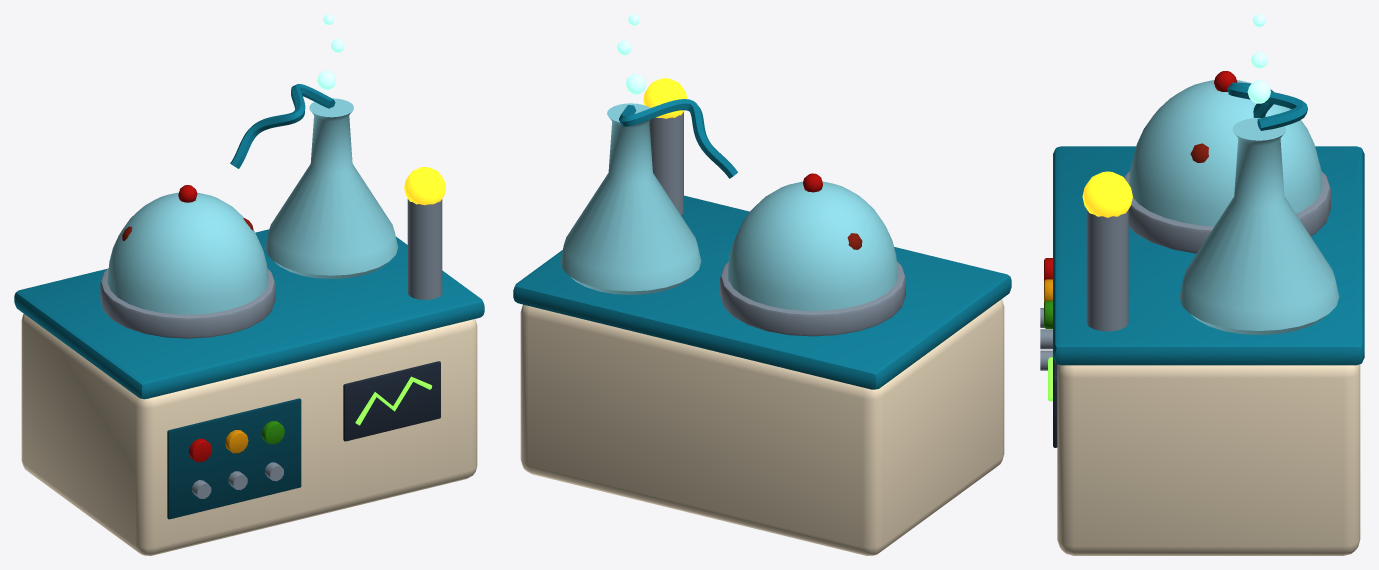
Rendered from LabMachine.fbx.
The picture shows the model from 3 angles, left to right: view 1: azimuth 30°, elevation 25°; view 2: azimuth 150°, elevation 25°; view 3: azimuth 270°, elevation 25°; orthographic projection. The views are drawn at different scales.
Parts seen in each view (by area): view 1: LabMachine; view 2: LabMachine; view 3: LabMachine.
Part boxes in pixels (left/top/right/bottom): LabMachine: left=14, top=14, right=484, bottom=555; LabMachine: left=513, top=14, right=1011, bottom=555; LabMachine: left=1040, top=14, right=1364, bottom=555.
Bounding box in the file's own units: 5.7 × 6.63 × 3.85.
